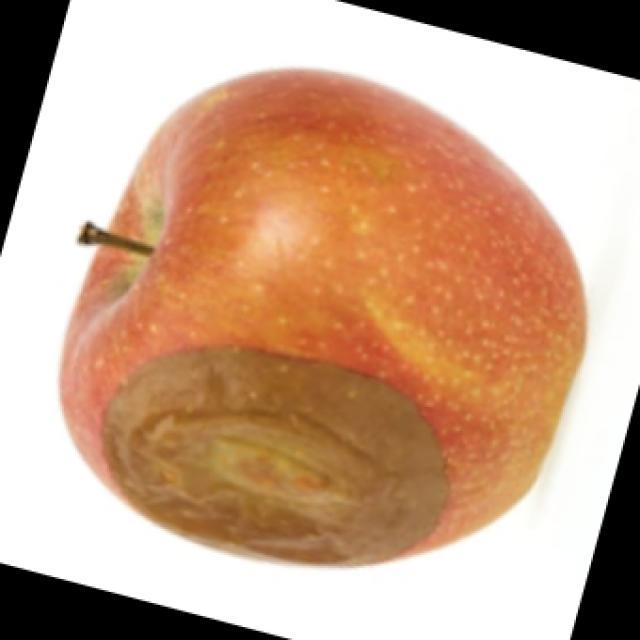Rotten: (107, 71, 593, 576)
